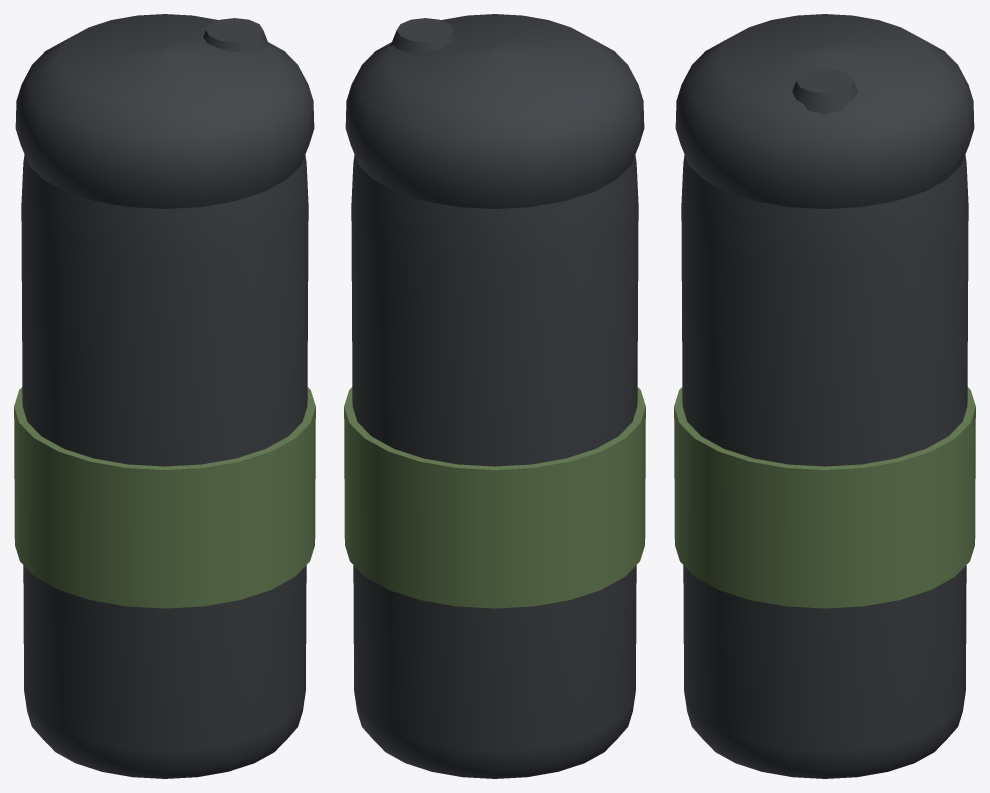
The model's file is mug_isotherme.glb.
The picture shows the model from 3 angles, left to right: view 1: azimuth 30°, elevation 25°; view 2: azimuth 150°, elevation 25°; view 3: azimuth 270°, elevation 25°; orthographic projection.
Parts seen in each view (by area): view 1: MUG_Anthracite, MUG_Sauge_Fonce; view 2: MUG_Anthracite, MUG_Sauge_Fonce; view 3: MUG_Anthracite, MUG_Sauge_Fonce.
Part boxes in pixels (x1,y1,x2,y2): MUG_Anthracite: [15, 14, 314, 778]; MUG_Sauge_Fonce: [14, 387, 315, 608]; MUG_Anthracite: [345, 14, 644, 778]; MUG_Sauge_Fonce: [344, 387, 645, 608]; MUG_Anthracite: [675, 14, 974, 778]; MUG_Sauge_Fonce: [674, 387, 975, 608].
Bounding box in the file's own units: 0.0788 × 0.1955 × 0.0788.
